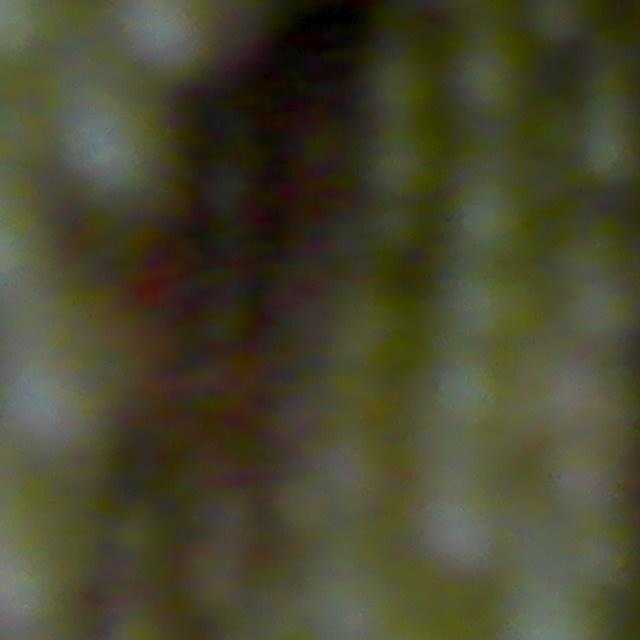SeaGrape: (52, 84, 165, 199), (117, 0, 222, 81), (449, 174, 535, 265), (449, 33, 533, 121), (361, 121, 442, 204), (363, 52, 437, 124), (526, 0, 602, 49)
